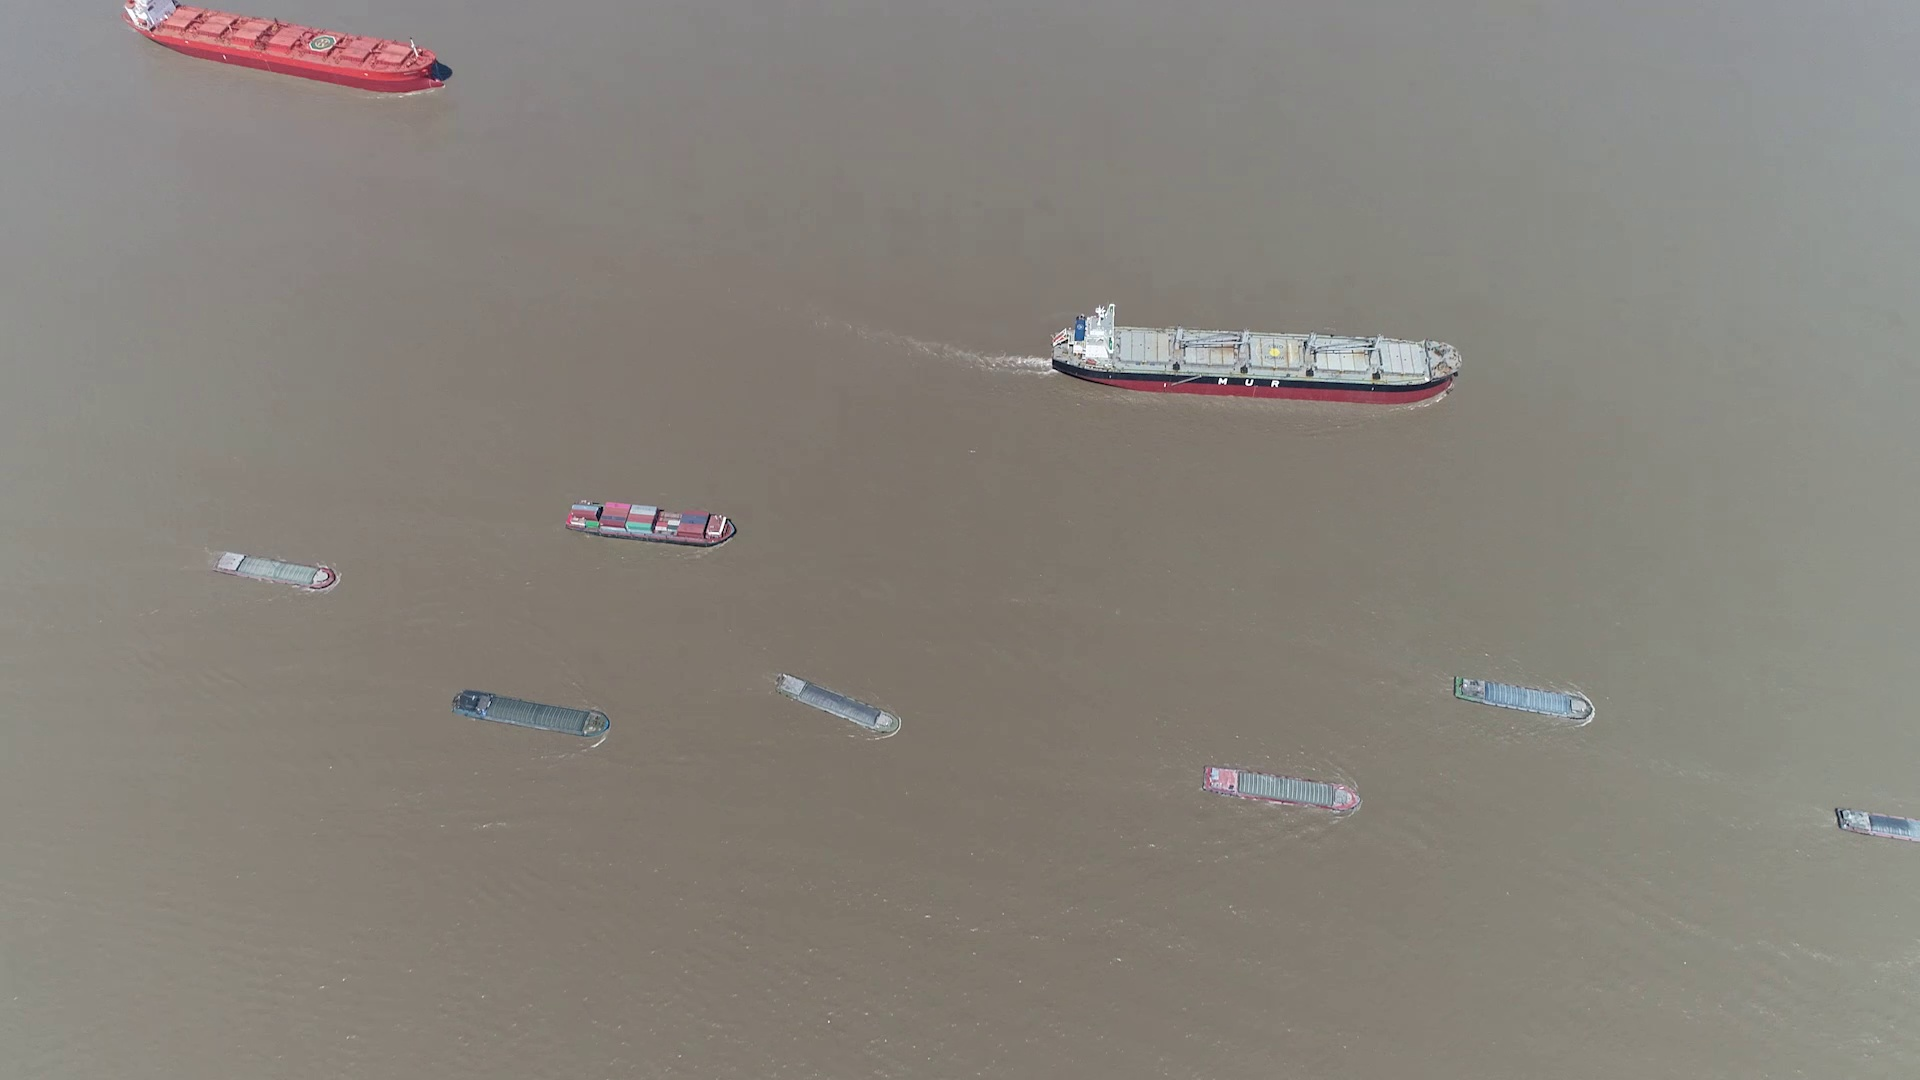ship: (1048, 313, 1462, 405), (127, 0, 451, 92), (566, 498, 738, 545), (454, 688, 611, 738), (779, 676, 899, 737), (1204, 766, 1361, 812), (1452, 676, 1596, 720), (208, 550, 338, 591), (1837, 808, 1917, 845)
